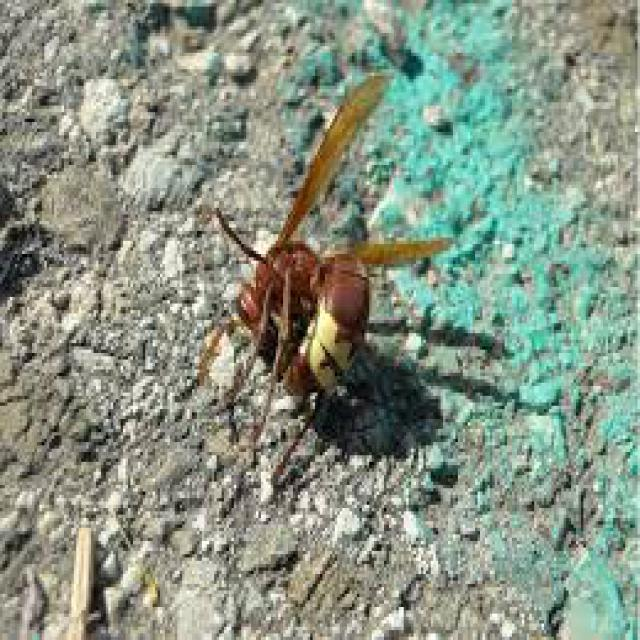Vespa Orientalis: (182, 62, 463, 490)
